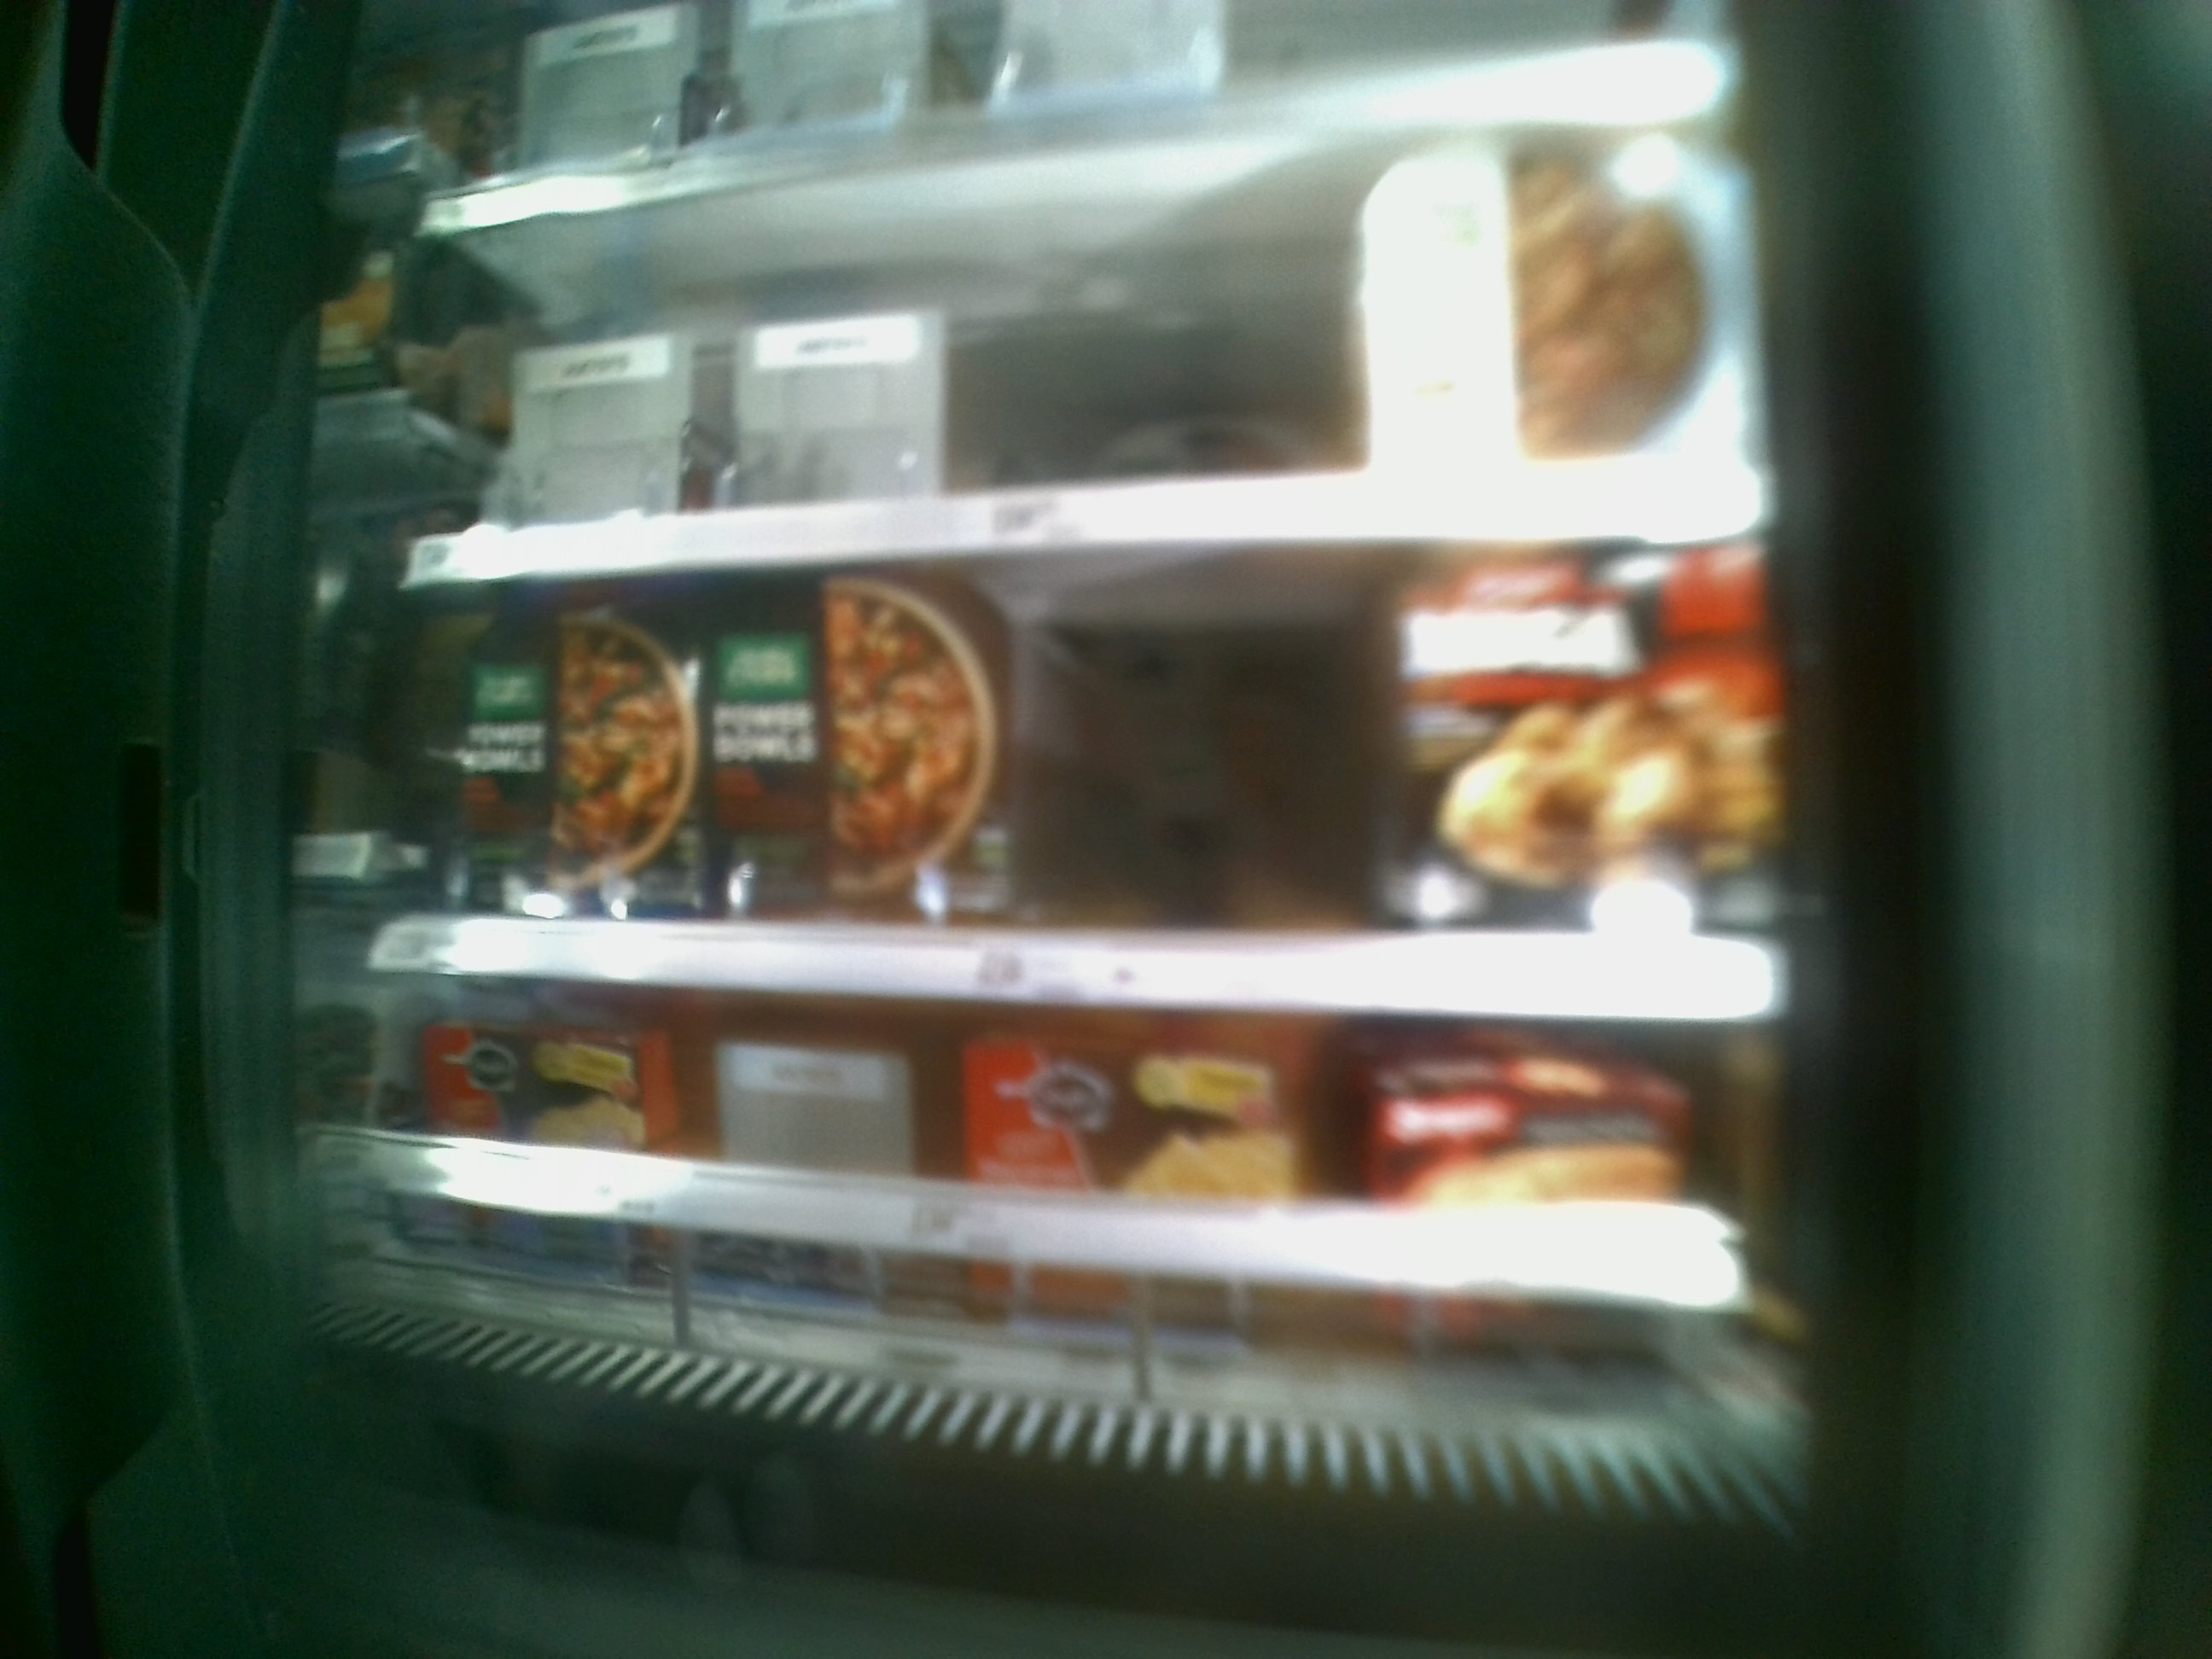shelf: (359, 978, 1782, 1469), (381, 542, 1785, 1014)
